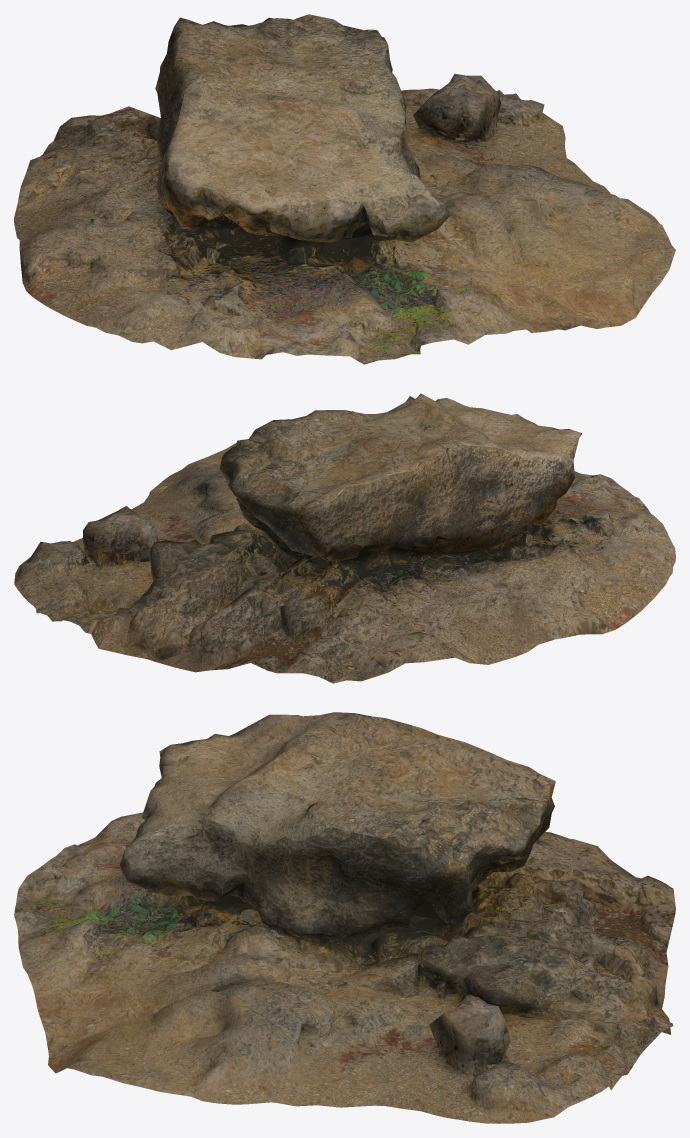
The model's file is coast_rocks_05.gltf.
3 views of the same model, one above another, from view 1: azimuth 30°, elevation 25°; view 2: azimuth 150°, elevation 25°; view 3: azimuth 270°, elevation 25° (orthographic). The views are drawn at different scales.
Visible parts, largest first — view 1: coast_rocks_05__x; view 2: coast_rocks_05__x; view 3: coast_rocks_05__x.
Part boxes in pixels (x1=…): coast_rocks_05__x: x1=14, y1=14, x2=675, y2=364; coast_rocks_05__x: x1=14, y1=393, x2=675, y2=683; coast_rocks_05__x: x1=14, y1=712, x2=675, y2=1123.
Bounding box in the file's own units: 3.03 × 0.9935 × 2.82.
Materials: 1 (1 with a texture image).
